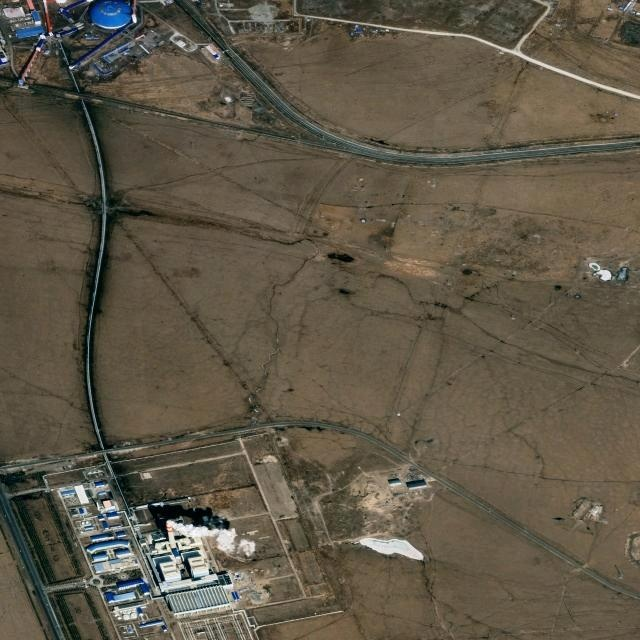coal_fired_power_plant: (145, 506, 235, 619)
